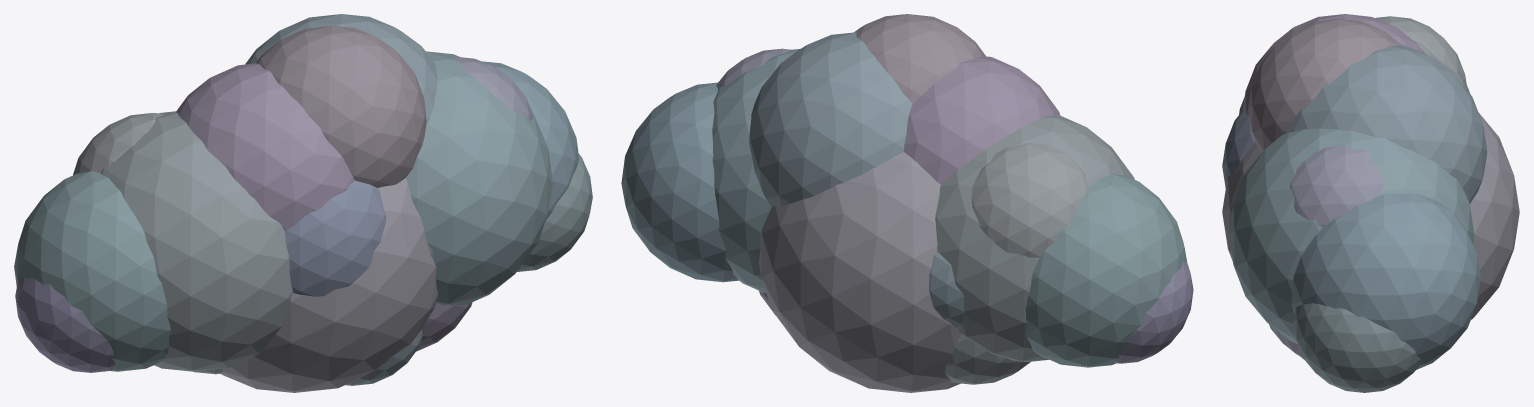
The model's file is cloud.glb.
3 renders of one model, left to right at view 1: azimuth 30°, elevation 25°; view 2: azimuth 150°, elevation 25°; view 3: azimuth 270°, elevation 25°, orthographic. The views are drawn at different scales.
Parts seen in each view (by area): view 1: world; view 2: world; view 3: world.
Boxes of the visible parts, <box> form: world: <box>14,14,592,392</box>; world: <box>621,14,1193,392</box>; world: <box>1222,14,1519,392</box>.
Size of the model in its own units: 4.65 by 2.8 by 2.3.
